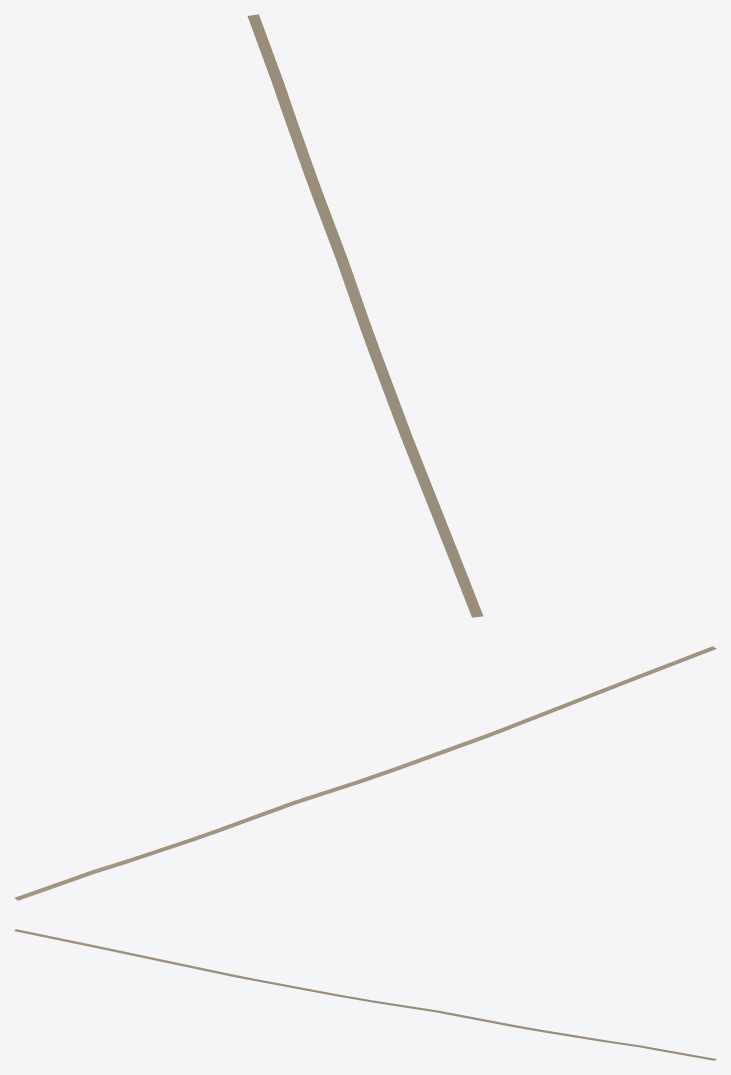
File: farm_7_1_track.glb
3 views of the same model, one above another, from view 1: azimuth 30°, elevation 25°; view 2: azimuth 150°, elevation 25°; view 3: azimuth 270°, elevation 25° (orthographic). The views are drawn at different scales.
Visible parts, largest first — view 1: geometry_0; view 2: geometry_0; view 3: geometry_0.
Part boxes in pixels (box(x1,y1,x2,y2)): geometry_0: box(247, 14, 483, 617); geometry_0: box(14, 646, 716, 900); geometry_0: box(14, 929, 716, 1060).
Size of the model in its own units: 159 by 8.78 by 398.
